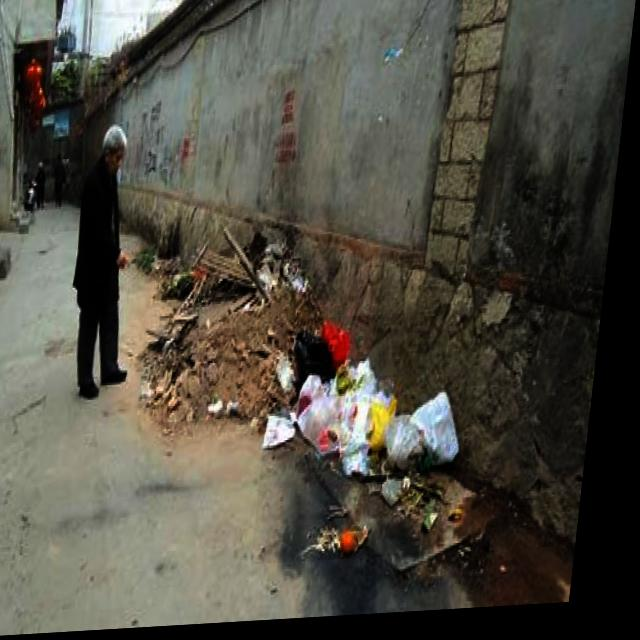garbage: (264, 315, 493, 568)
